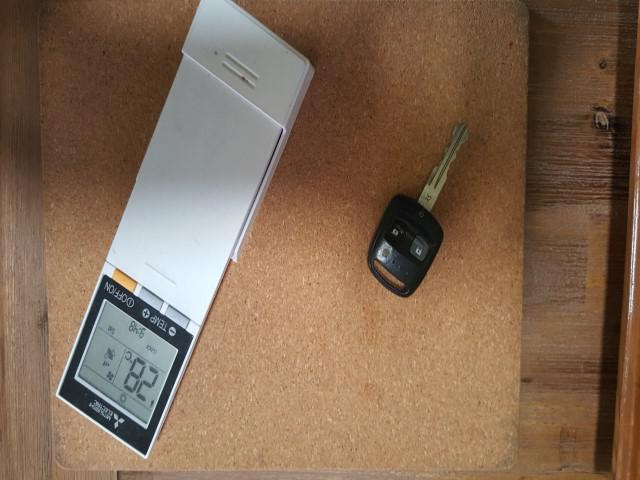key: (366, 120, 470, 470)
